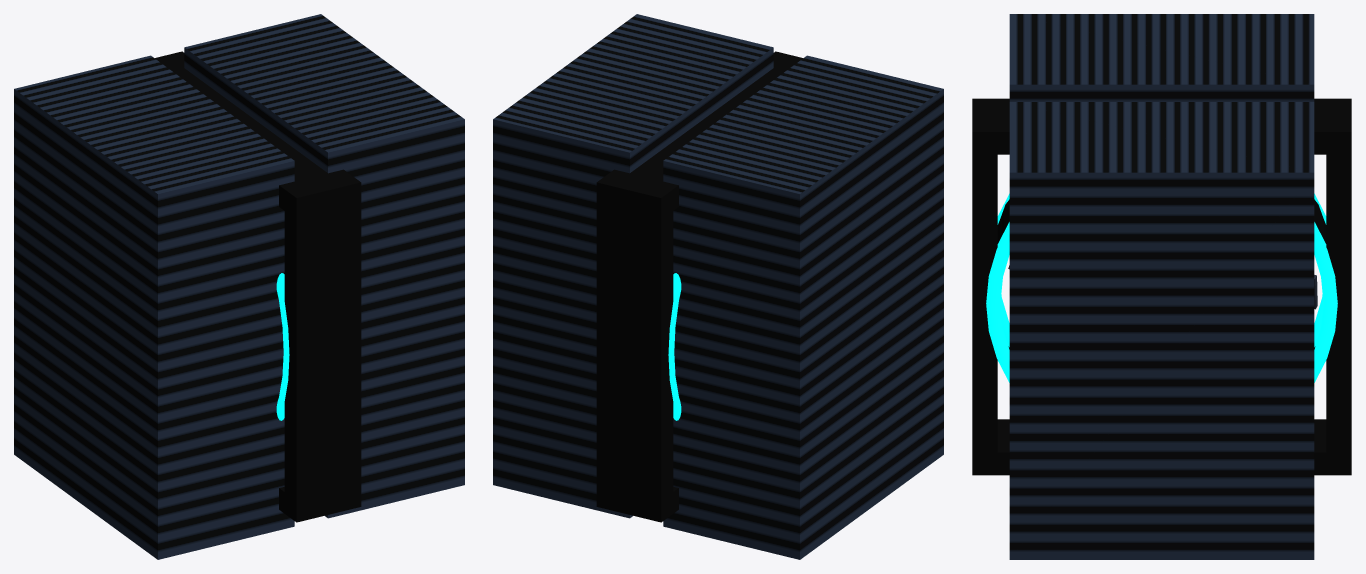
Rendered from noctua-nh-d15.glb.
3 renders of one model, left to right at view 1: azimuth 30°, elevation 25°; view 2: azimuth 150°, elevation 25°; view 3: azimuth 270°, elevation 25°, orthographic. The views are drawn at different scales.
Parts seen in each view (by area): view 1: AirTowerLeft, AirTowerRight, AirTowerFan_LeftBar, AirTowerFan_TopBar, AirTowerFan_BotBar, RGB_AirTowerFan_RearRing; view 2: AirTowerLeft, AirTowerRight, AirTowerFan_RightBar, AirTowerFan_TopBar, AirTowerFan_BotBar, RGB_AirTowerFan_RearRing; view 3: AirTowerRight, AirTowerLeft, AirTowerFan_LeftBar, AirTowerFan_RightBar, AirTowerFan_TopBar, RGB_AirTowerFan_FrontRing, AirTowerFan_BotBar, RGB_AirTowerFan_RearRing, AirTowerFan_ShroudCylinder.
Boxes of the visible parts, x1,y1,x2,y2 form: AirTowerLeft: [14, 55, 294, 559]; AirTowerRight: [184, 14, 464, 518]; AirTowerFan_LeftBar: [284, 204, 361, 500]; AirTowerFan_TopBar: [155, 51, 361, 219]; AirTowerFan_BotBar: [279, 485, 361, 522]; RGB_AirTowerFan_RearRing: [276, 273, 289, 420]; AirTowerLeft: [663, 55, 943, 559]; AirTowerRight: [493, 14, 773, 518]; AirTowerFan_RightBar: [596, 204, 673, 500]; AirTowerFan_TopBar: [596, 51, 802, 219]; AirTowerFan_BotBar: [596, 485, 678, 522]; RGB_AirTowerFan_RearRing: [668, 273, 681, 420]; AirTowerRight: [1009, 102, 1314, 559]; AirTowerLeft: [1009, 14, 1314, 101]; AirTowerFan_LeftBar: [972, 154, 997, 452]; AirTowerFan_RightBar: [1326, 154, 1351, 452]; AirTowerFan_TopBar: [972, 98, 1351, 154]; RGB_AirTowerFan_FrontRing: [986, 222, 1337, 382]; AirTowerFan_BotBar: [972, 419, 1351, 475]; RGB_AirTowerFan_RearRing: [997, 193, 1326, 347]; AirTowerFan_ShroudCylinder: [997, 199, 1326, 349].
Bounding box in the file's own units: 1.01 × 1.15 × 1.02.
6 materials, 4 textured.
